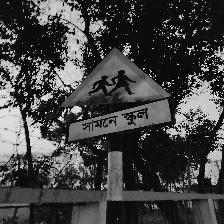School-in-front: (58, 46, 173, 143)
